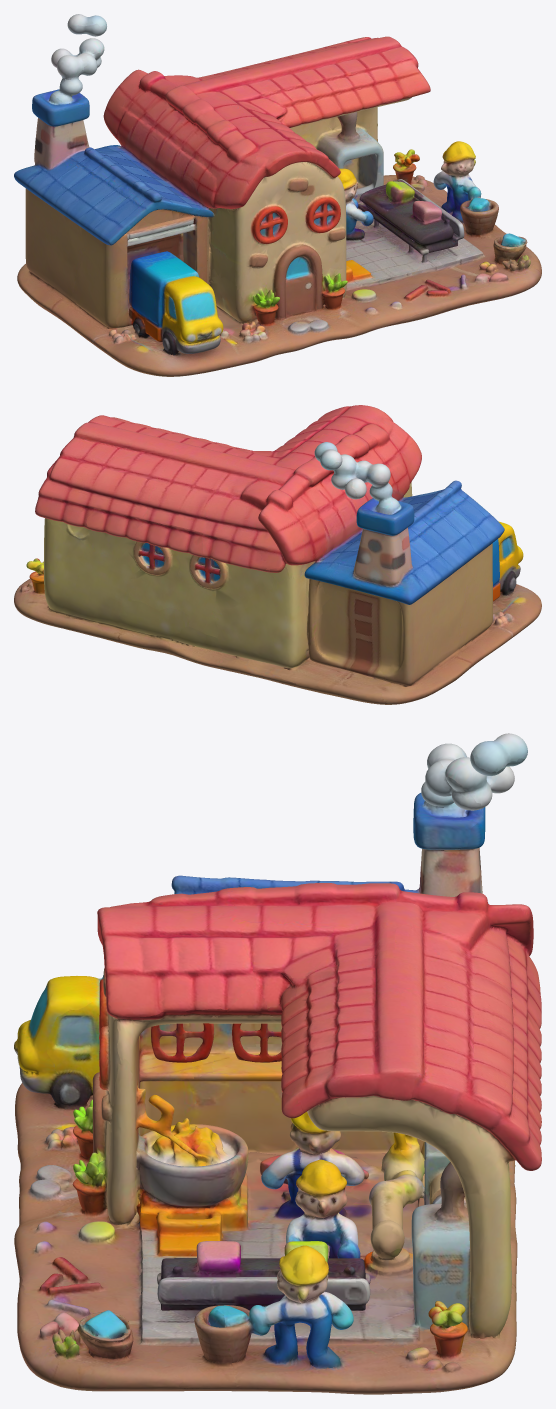
File: factory.glb
3 views of the same model, one above another, from view 1: azimuth 30°, elevation 25°; view 2: azimuth 150°, elevation 25°; view 3: azimuth 270°, elevation 25° (orthographic). The views are drawn at different scales.
Bounding box in the file's own units: 1.9 × 1.08 × 1.26.
1 material, 1 textured.
